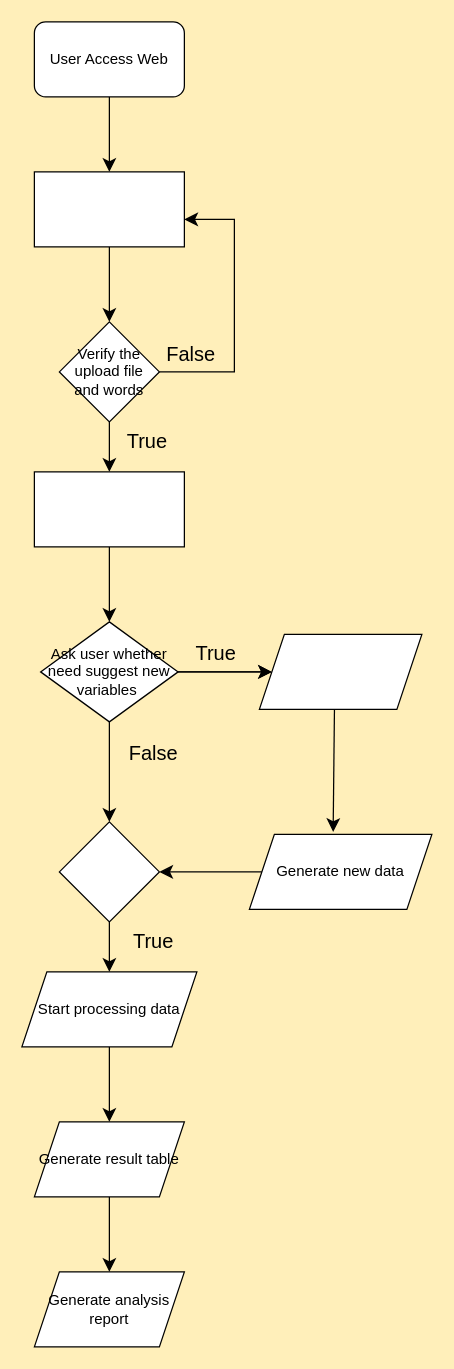
Image size: 454x1369. Some labels were removed from this diagram. The box of each missing label's shape, as (x1, y1, x2, y2) in pixels:
Choose the desired analysis format: (33, 471, 184, 547)
Request LM to generate variables: (258, 633, 422, 709)
Test variables: (58, 821, 159, 922)
user uploads a CSV with its description words: (33, 171, 184, 247)
